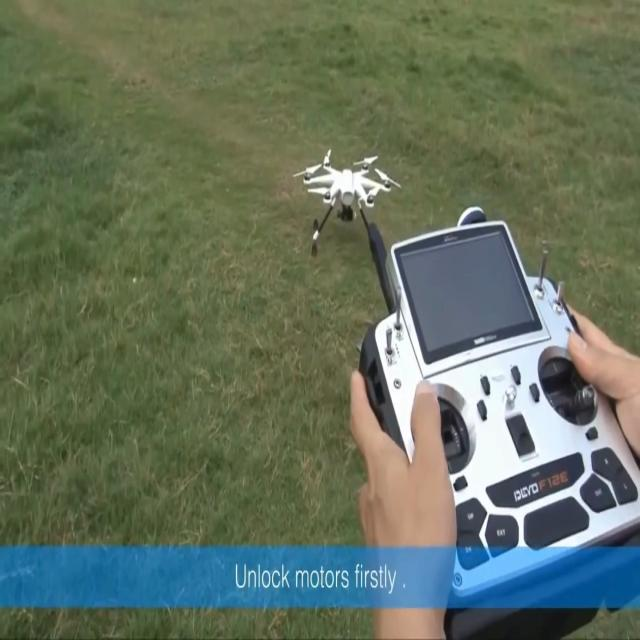drone: (293, 147, 402, 256)
